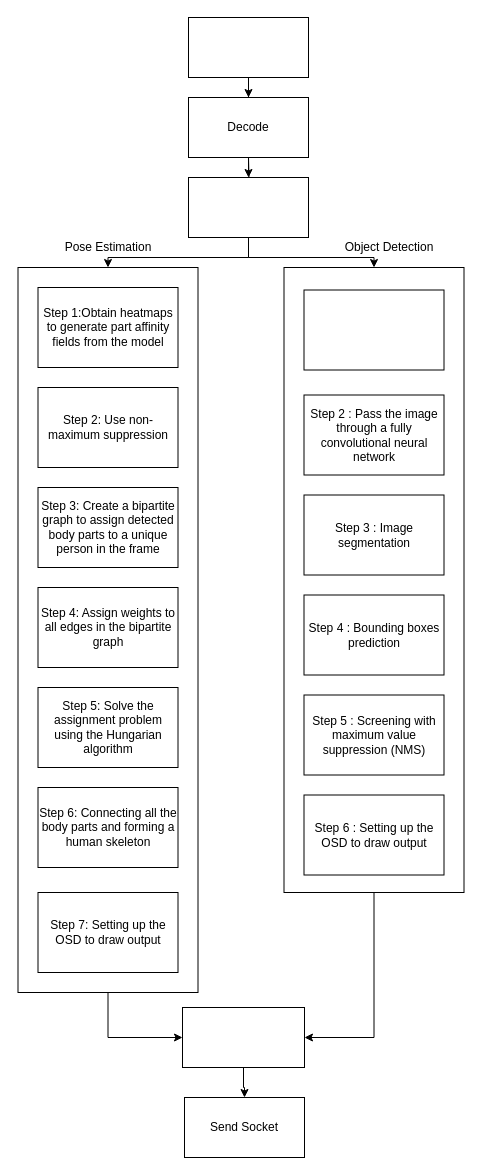
The diagram is 481 pixels wide and 1175 high, and some of its shapes have lost their labels. Here are the shapes that lost their labels. From the top down, the box of each, then its label:
(188, 16, 308, 78): Raw Image
(188, 176, 308, 238): Batch
(303, 289, 444, 370): Step 1 : Resize Image
(182, 1006, 304, 1068): Lock screen rules
